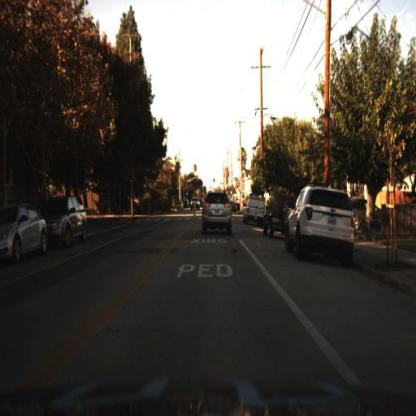car: (283, 182, 358, 267), (1, 202, 50, 264), (38, 195, 89, 247), (262, 191, 298, 241), (201, 187, 235, 238), (242, 193, 269, 228), (189, 192, 202, 215)
